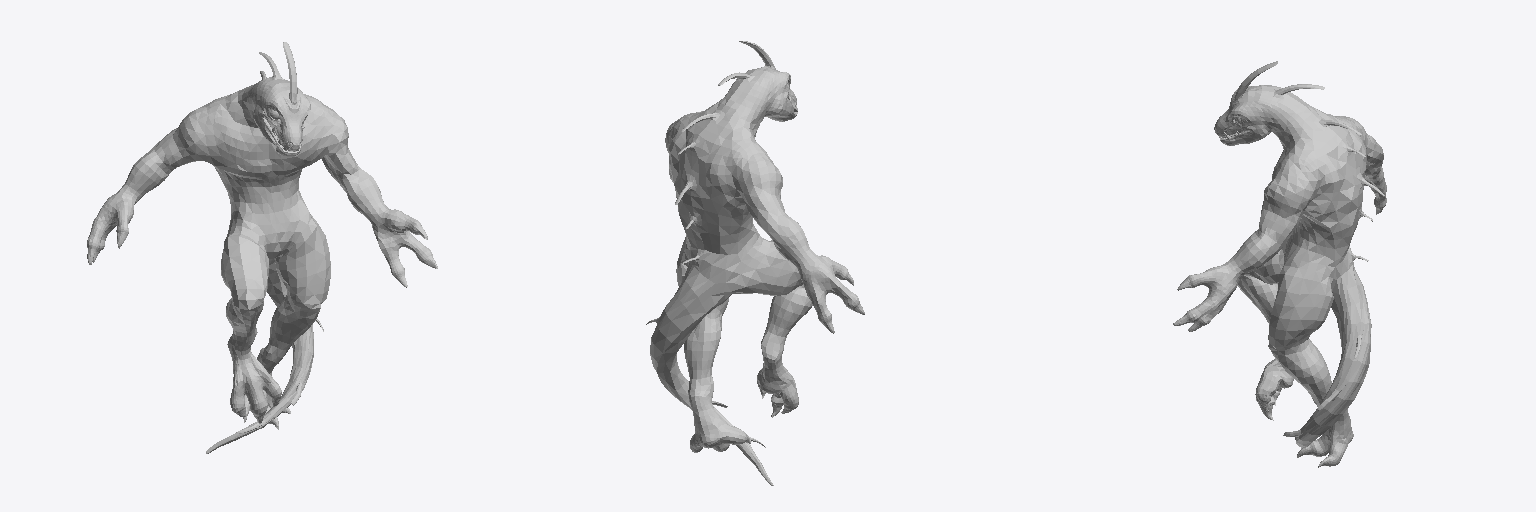
File: Lizard_Statue_Top.obj
The picture shows the model from 3 angles: view 1: azimuth 30°, elevation 25°; view 2: azimuth 150°, elevation 25°; view 3: azimuth 270°, elevation 25°; orthographic projection.
Parts seen in each view (by area): view 1: Zilla:Body_highPoly_9_28_geo Zilla:Zilla_Geometry Zilla:Zilla; view 2: Zilla:Body_highPoly_9_28_geo Zilla:Zilla_Geometry Zilla:Zilla; view 3: Zilla:Body_highPoly_9_28_geo Zilla:Zilla_Geometry Zilla:Zilla.
Part boxes in pixels (bbox=[...]): Zilla:Body_highPoly_9_28_geo Zilla:Zilla_Geometry Zilla:Zilla: bbox=[87, 42, 437, 453]; Zilla:Body_highPoly_9_28_geo Zilla:Zilla_Geometry Zilla:Zilla: bbox=[646, 41, 864, 485]; Zilla:Body_highPoly_9_28_geo Zilla:Zilla_Geometry Zilla:Zilla: bbox=[1173, 61, 1386, 467].
Size of the model in its own units: 28.44 by 42.71 by 19.94.